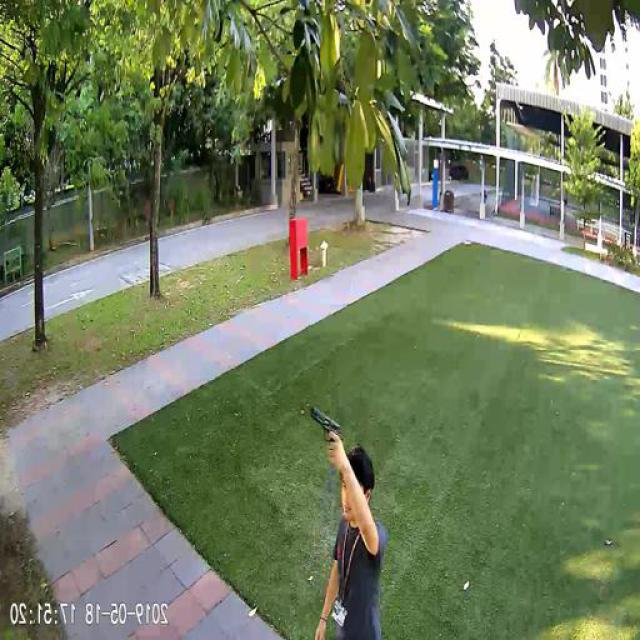Gun: (311, 405, 344, 443)
